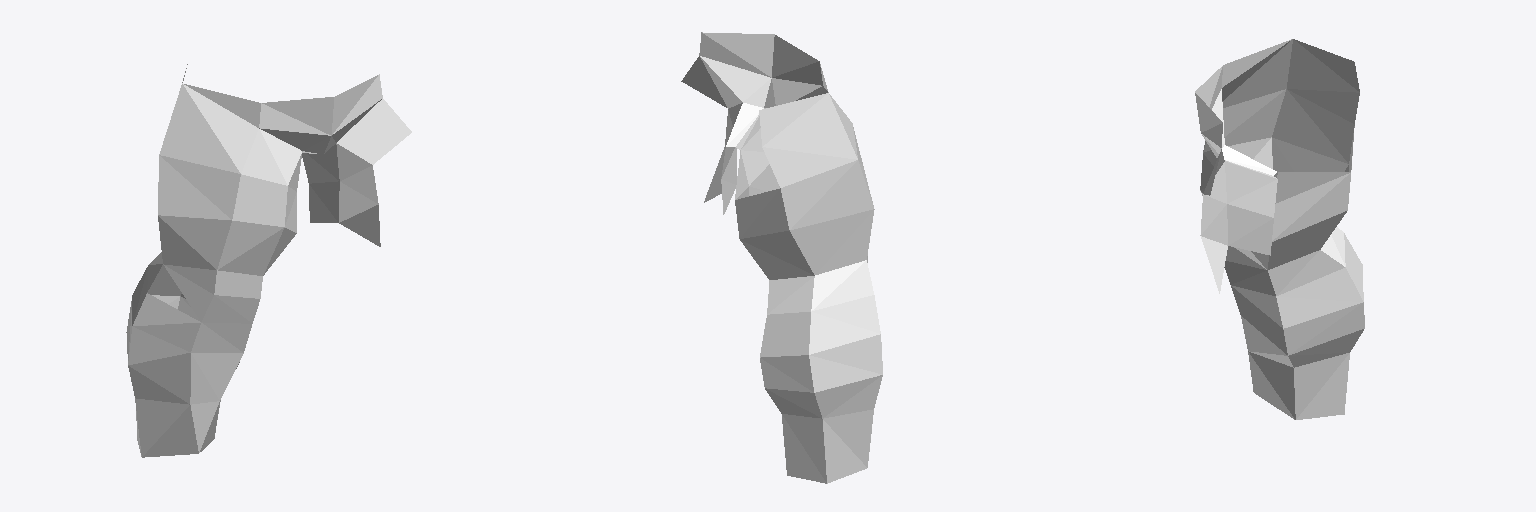
The model's file is piernaDerecha.obj.
3 views of the same model, side by side, from view 1: azimuth 30°, elevation 25°; view 2: azimuth 150°, elevation 25°; view 3: azimuth 270°, elevation 25° (orthographic).
Parts seen in each view (by area): view 1: Geoset_023-Trousers_sep1167, Geoset_023-Trousers_sep1144, Geoset_023-Trousers_sep1166, Geoset_023-Trousers_sep1145, Geoset_023-Trousers_sep1125, Geoset_024-Boots_sep1278, Geoset_024-Boots_sep1244, Geoset_023-Trousers_sep1171, Geoset_024-Boots_sep1241, Geoset_023-Trousers_sep1118, Geoset_023-Trousers_sep1191, Geoset_023-Trousers_sep1121 (+28 smaller); view 2: Geoset_023-Trousers_sep1163, Geoset_023-Trousers_sep1142, Geoset_023-Trousers_sep1129, Geoset_023-Trousers_sep1160, Geoset_023-Trousers_sep1135, Geoset_023-Trousers_sep1173, Geoset_024-Boots_sep1264, Geoset_024-Boots_sep1247, Geoset_024-Boots_sep1267, Geoset_024-Boots_sep1246, Geoset_024-Boots_sep1268, Geoset_024-Boots_sep1245 (+26 smaller); view 3: Geoset_023-Trousers_sep1142, Geoset_023-Trousers_sep1163, Geoset_023-Trousers_sep1167, Geoset_024-Boots_sep1250, Geoset_024-Boots_sep1249, Geoset_024-Boots_sep1251, Geoset_023-Trousers_sep1135, Geoset_023-Trousers_sep1141, Geoset_024-Boots_sep1256, Geoset_023-Trousers_sep1143, Geoset_023-Trousers_sep1144, Geoset_023-Trousers_sep1129 (+25 smaller).
Boxes of the visible parts, <box> form: Geoset_023-Trousers_sep1167: <box>159,84,240,173</box>; Geoset_023-Trousers_sep1144: <box>158,155,230,219</box>; Geoset_023-Trousers_sep1166: <box>182,83,258,172</box>; Geoset_023-Trousers_sep1145: <box>160,155,240,219</box>; Geoset_023-Trousers_sep1125: <box>158,215,231,269</box>; Geoset_024-Boots_sep1278: <box>128,353,190,403</box>; Geoset_024-Boots_sep1244: <box>135,398,189,456</box>; Geoset_023-Trousers_sep1171: <box>262,97,333,135</box>; Geoset_024-Boots_sep1241: <box>142,405,198,457</box>; Geoset_023-Trousers_sep1118: <box>217,221,284,269</box>; Geoset_023-Trousers_sep1191: <box>337,99,382,164</box>; Geoset_023-Trousers_sep1121: <box>158,216,215,269</box>; Geoset_023-Trousers_sep1163: <box>763,93,857,159</box>; Geoset_023-Trousers_sep1142: <box>791,161,873,229</box>; Geoset_023-Trousers_sep1129: <box>790,209,873,274</box>; Geoset_023-Trousers_sep1160: <box>762,147,855,187</box>; Geoset_023-Trousers_sep1135: <box>781,160,857,229</box>; Geoset_023-Trousers_sep1173: <box>702,32,774,77</box>; Geoset_024-Boots_sep1264: <box>809,312,879,354</box>; Geoset_024-Boots_sep1247: <box>823,409,873,467</box>; Geoset_024-Boots_sep1267: <box>810,334,882,374</box>; Geoset_024-Boots_sep1246: <box>823,420,866,483</box>; Geoset_024-Boots_sep1268: <box>809,355,881,392</box>; Geoset_024-Boots_sep1245: <box>782,414,826,482</box>; Geoset_023-Trousers_sep1142: <box>1272,89,1347,163</box>; Geoset_023-Trousers_sep1163: <box>1287,39,1359,92</box>; Geoset_023-Trousers_sep1167: <box>1222,39,1292,107</box>; Geoset_024-Boots_sep1250: <box>1294,353,1348,418</box>; Geoset_024-Boots_sep1249: <box>1296,353,1349,419</box>; Geoset_024-Boots_sep1251: <box>1276,267,1362,301</box>; Geoset_023-Trousers_sep1135: <box>1287,89,1354,163</box>; Geoset_023-Trousers_sep1141: <box>1272,173,1350,241</box>; Geoset_024-Boots_sep1256: <box>1276,297,1362,328</box>; Geoset_023-Trousers_sep1143: <box>1272,173,1349,240</box>; Geoset_023-Trousers_sep1144: <box>1224,90,1285,145</box>; Geoset_023-Trousers_sep1129: <box>1273,138,1348,171</box>.
Bounding box in the file's own units: 0.7527 × 1.09 × 0.4567.